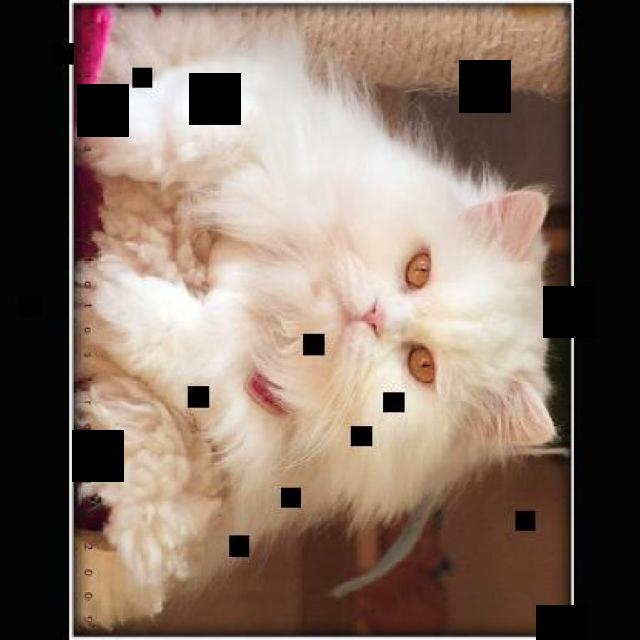unauthorized: (73, 12, 564, 628)
